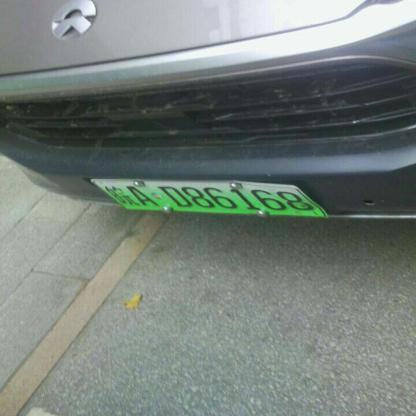lp: (91, 181, 324, 215)
